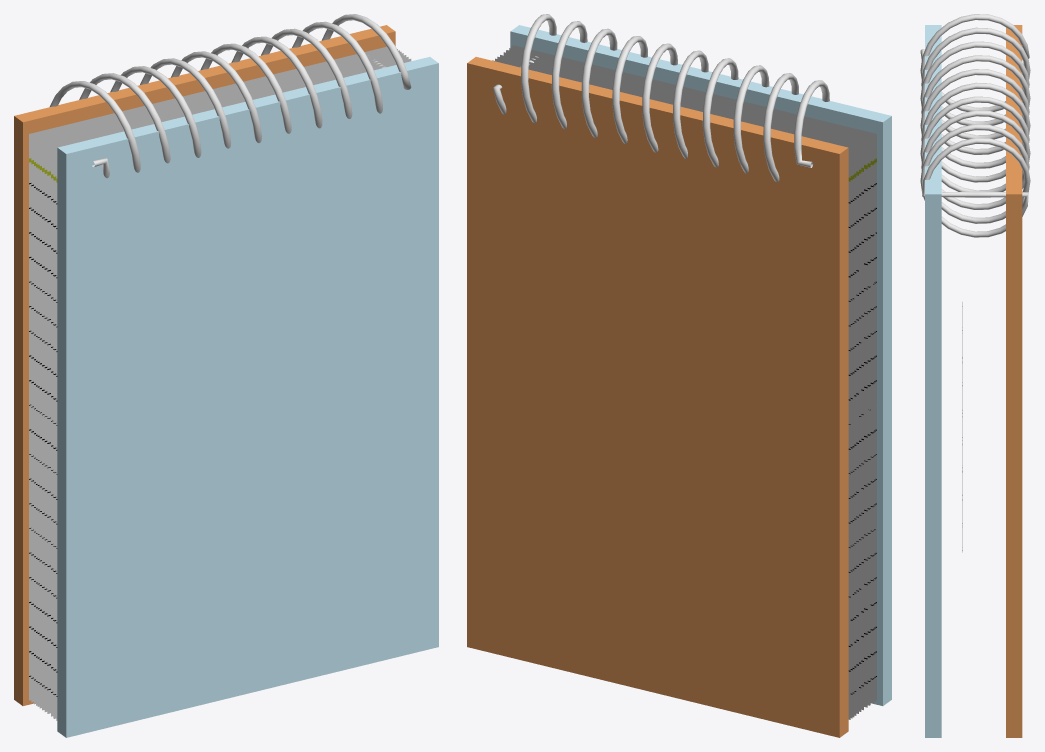
The model's file is notepad.fbx.
The picture shows the model from 3 angles, left to right: view 1: azimuth 30°, elevation 25°; view 2: azimuth 150°, elevation 25°; view 3: azimuth 270°, elevation 25°; orthographic projection. The views are drawn at different scales.
Parts seen in each view (by area): view 1: Cube, Spiral.001, Plane.008, Plane.007, Plane.005, Plane, Plane.006, Plane.001, Plane.004, Plane.002, Plane.003, Plane.009 (+2 smaller); view 2: Cube, Spiral.001, Plane.009, Plane.012, Plane.008, Plane.007, Plane.010, Plane.006, Plane.005, Plane.015, Plane.004, Plane.003 (+4 smaller); view 3: Cube, Spiral.001, Plane.009.
Boxes of the visible parts, x1,y1,x2,y2 form: Cube: (14,25,438,737); Spiral.001: (49,14,411,178); Plane.008: (47,58,411,713); Plane.007: (44,57,408,711); Plane.005: (39,53,403,708); Plane: (29,46,388,700); Plane.006: (42,55,406,710); Plane.001: (31,49,389,702); Plane.004: (37,51,401,706); Plane.002: (34,49,397,704); Plane.003: (36,50,399,705); Plane.009: (51,148,57,716); Cube: (467,25,891,737); Spiral.001: (493,14,829,182); Plane.009: (503,52,867,707); Plane.012: (509,48,873,703); Plane.008: (500,55,863,710); Plane.007: (497,56,861,711); Plane.010: (506,50,869,705); Plane.006: (495,58,858,713); Plane.005: (492,60,856,715); Plane.015: (511,46,875,701); Plane.004: (848,149,854,717); Plane.003: (848,151,852,718); Cube: (925,25,1022,737); Spiral.001: (920,14,1030,237); Plane.009: (962,302,962,552).
Size of the model in its own units: 98.34 by 157 by 27.03.
